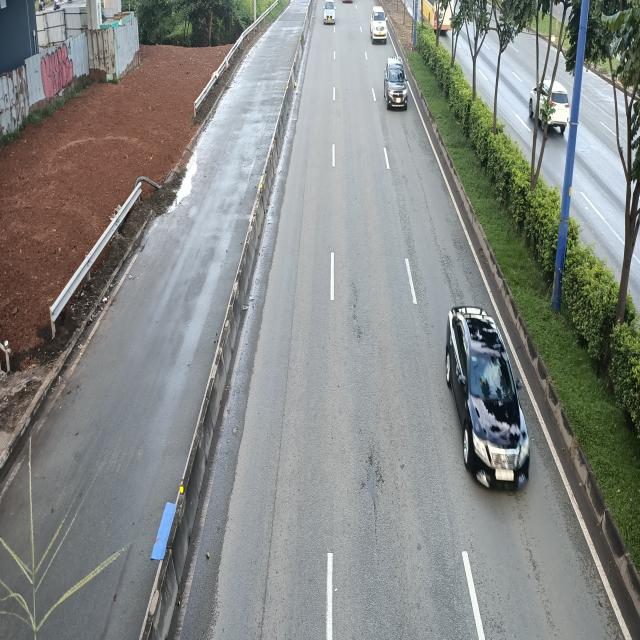car: (447, 303, 532, 487), (382, 56, 408, 108)
